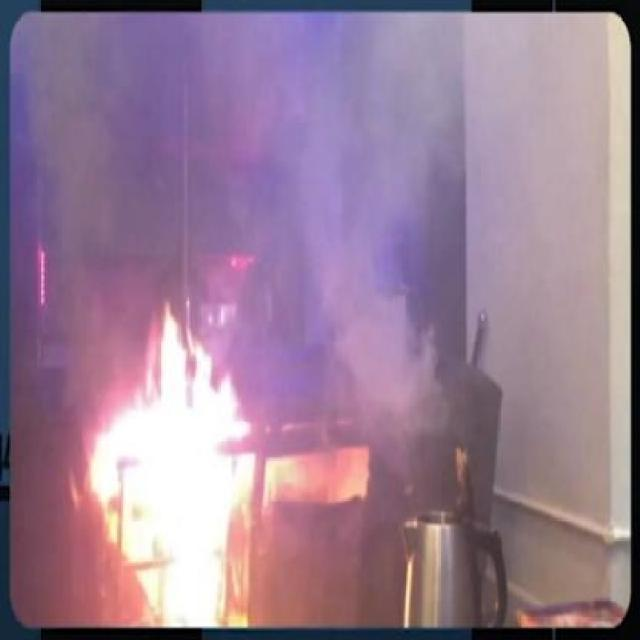Fire: (66, 289, 402, 640)
Smoke: (235, 14, 468, 462), (12, 23, 174, 398)
